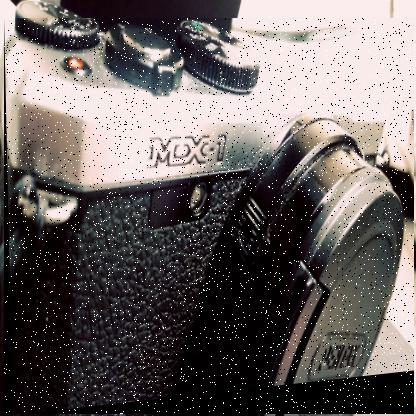Camera: (5, 19, 416, 416)
